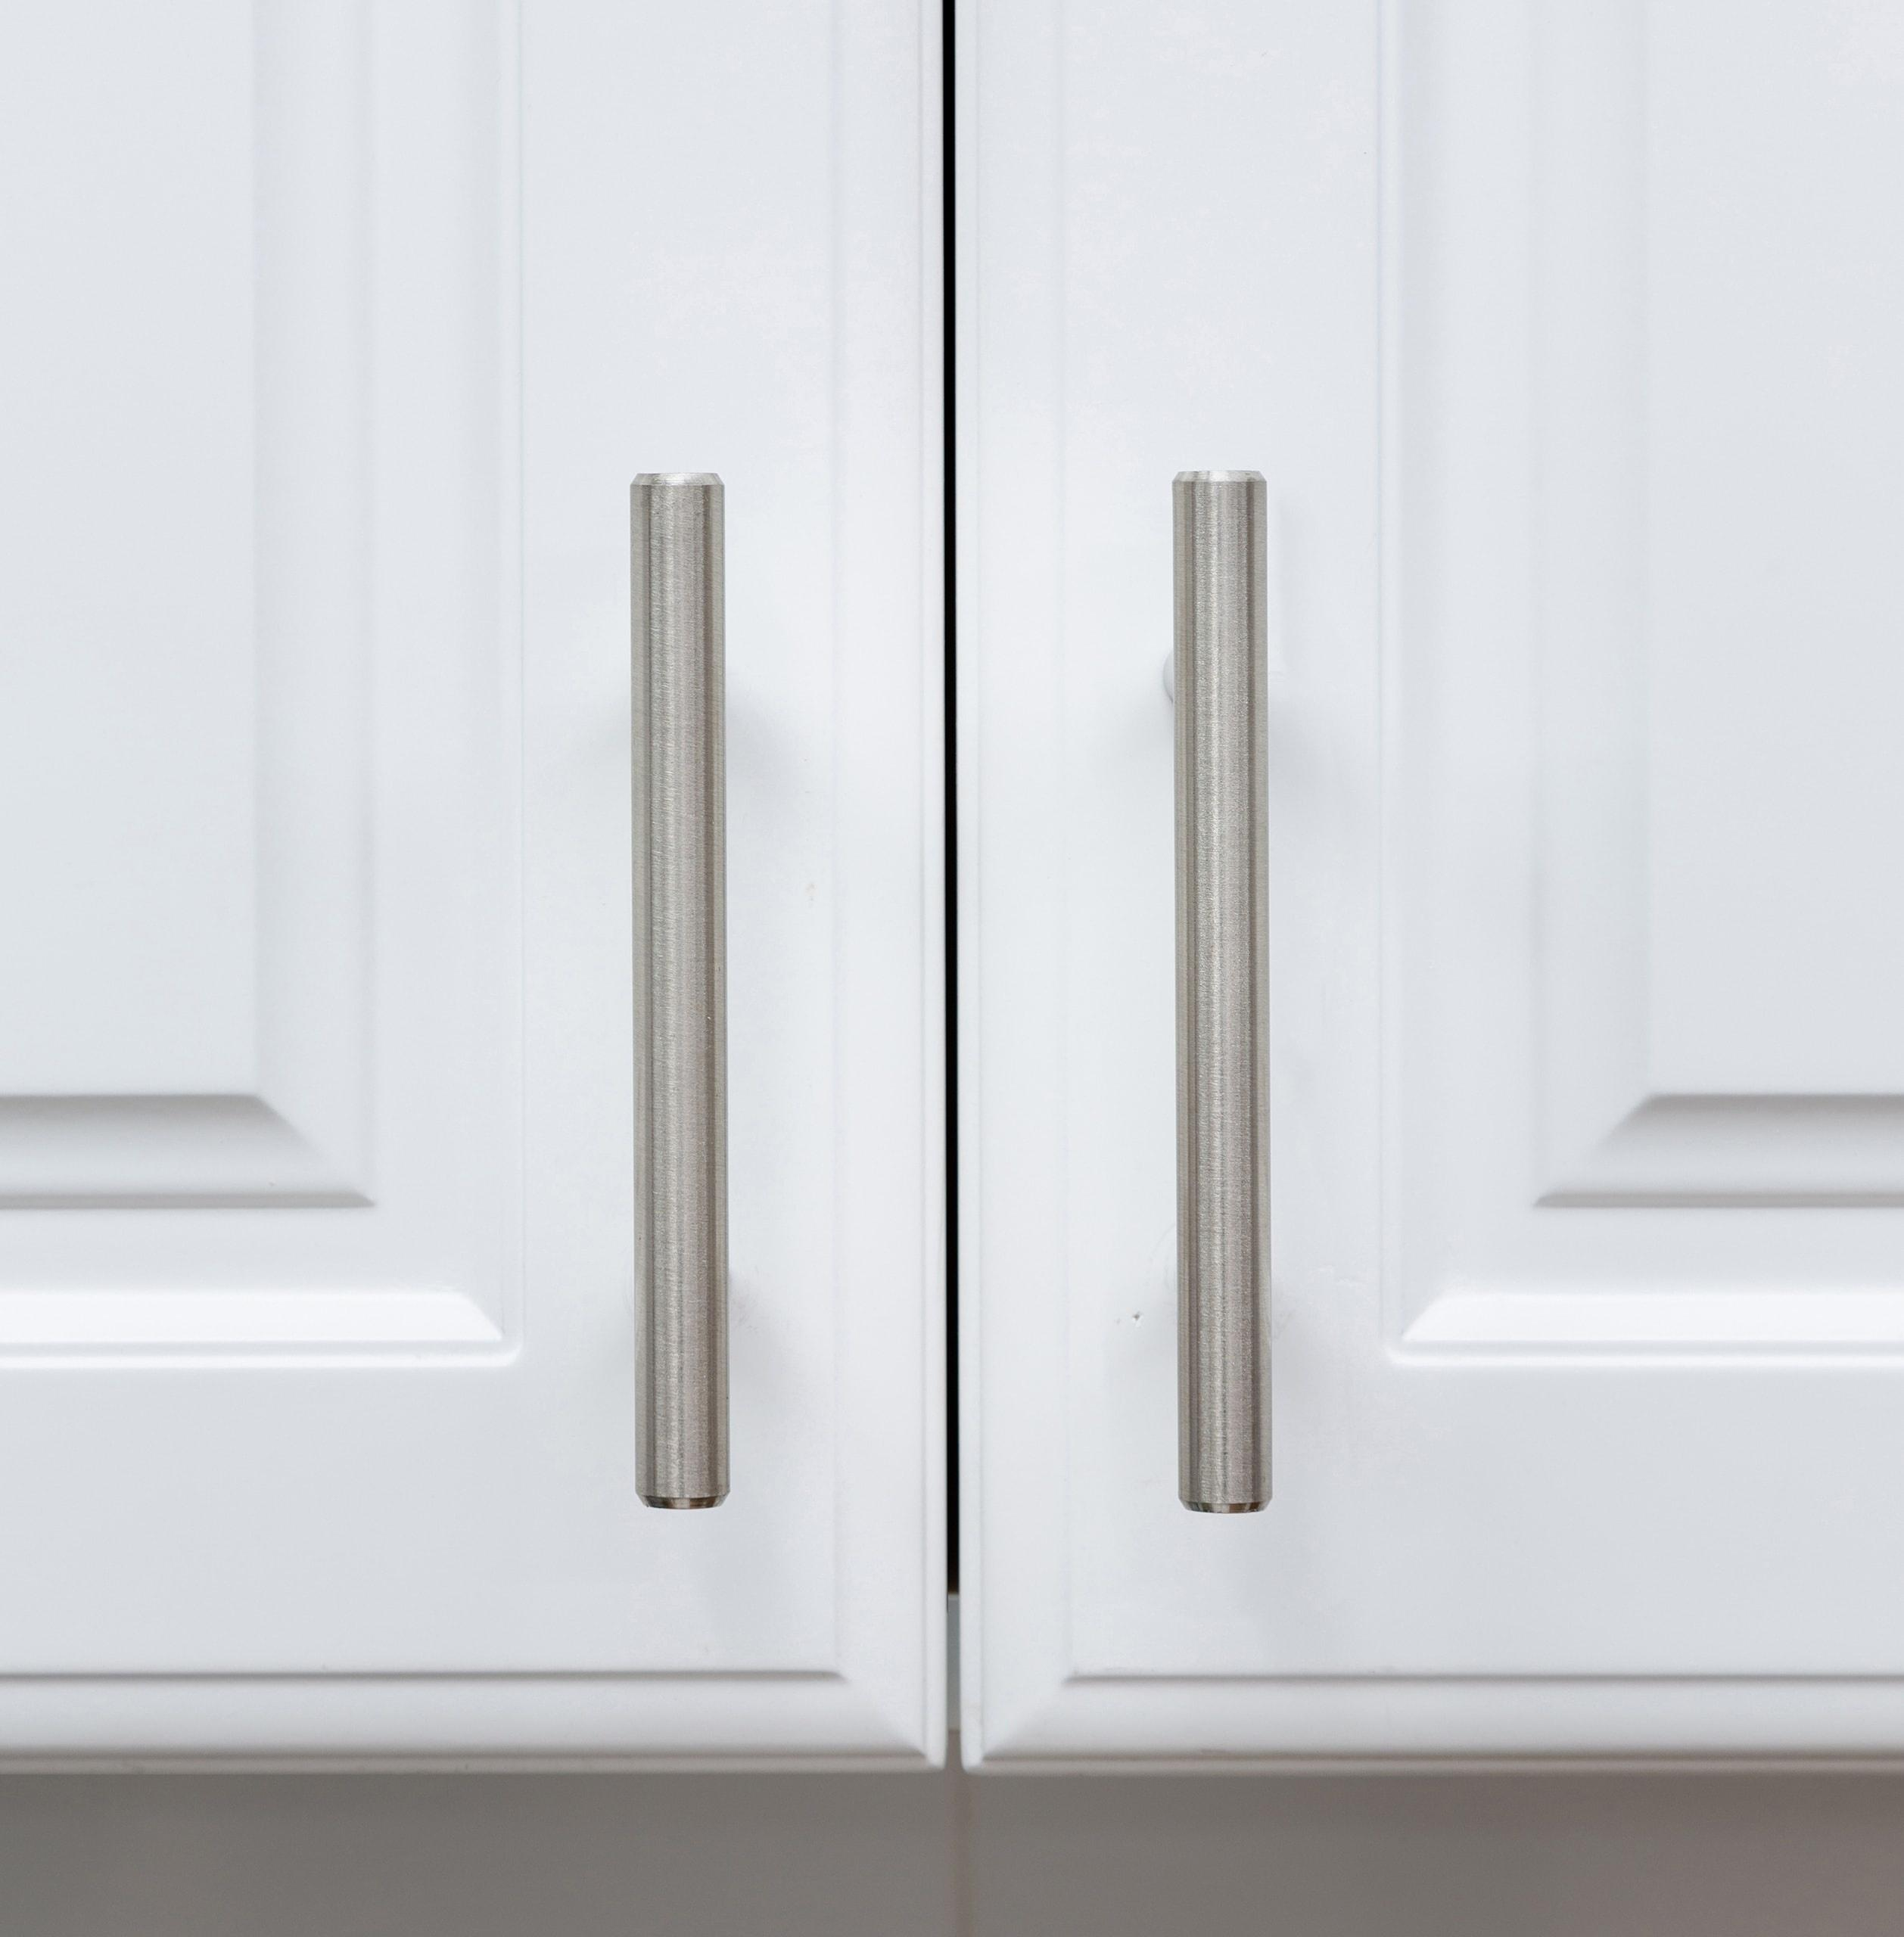cabinet_door: (955, 0, 1904, 1771), (0, 0, 938, 1773)
handle: (1151, 453, 1294, 1538), (609, 453, 751, 1526)
